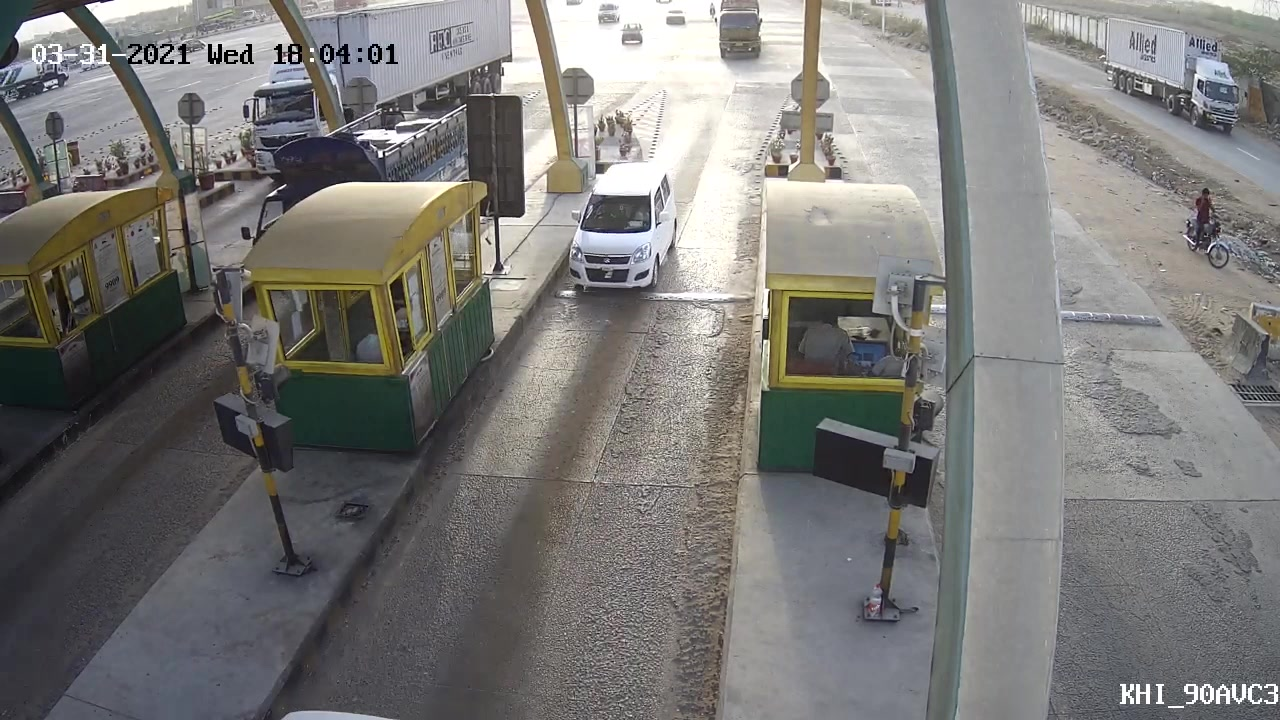F1: (564, 156, 684, 296)
